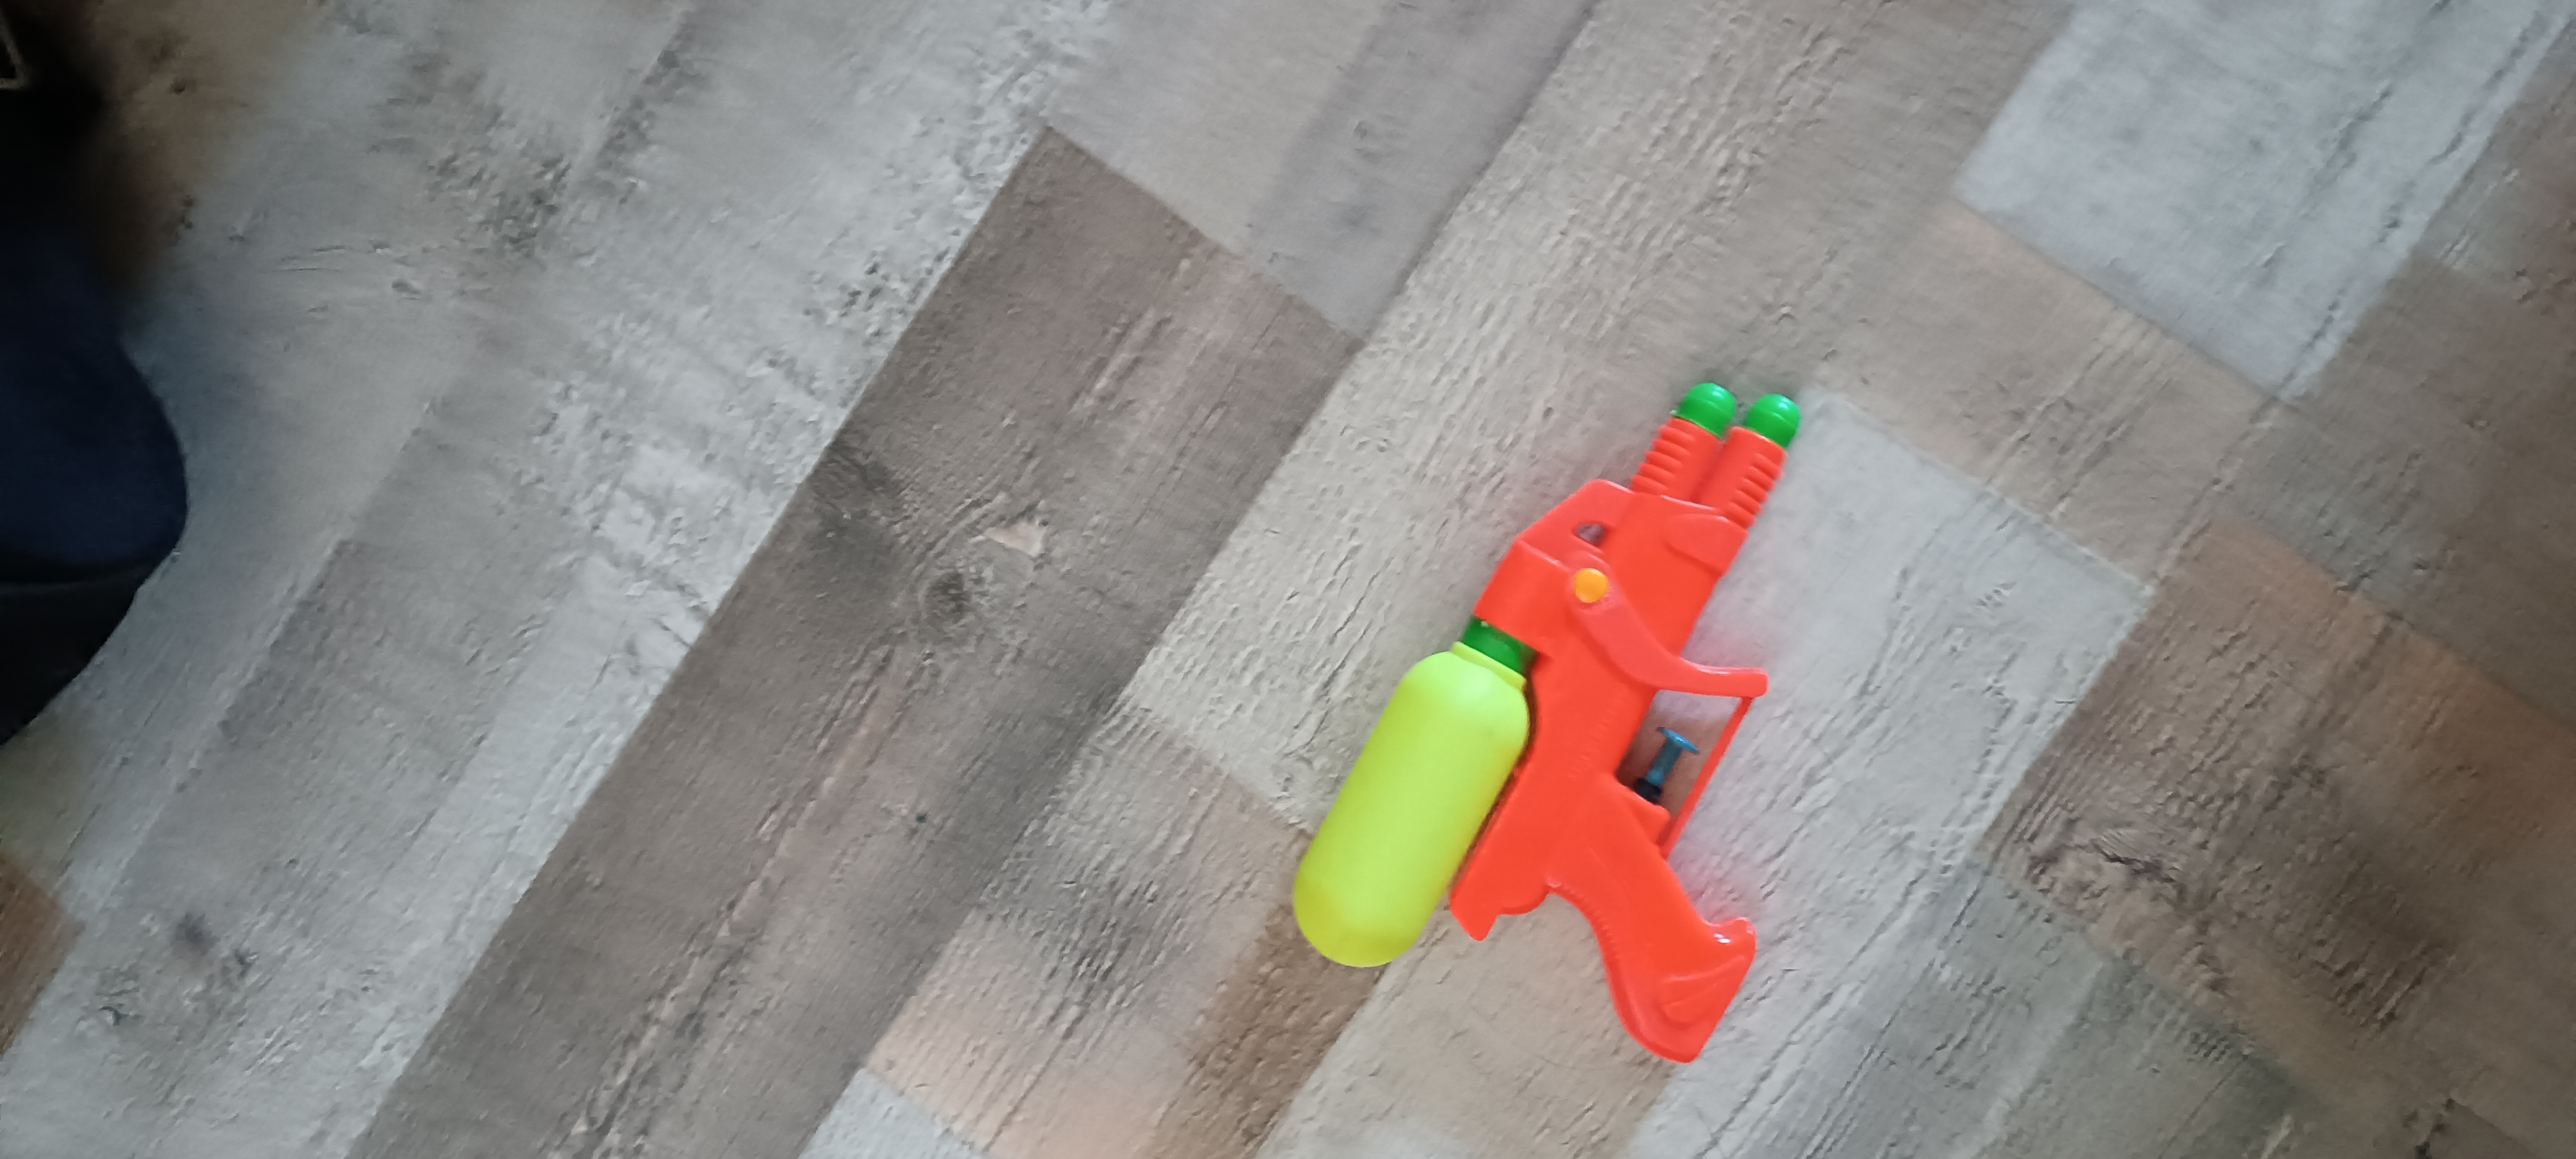Water Gun: (1290, 383, 1804, 1064)
